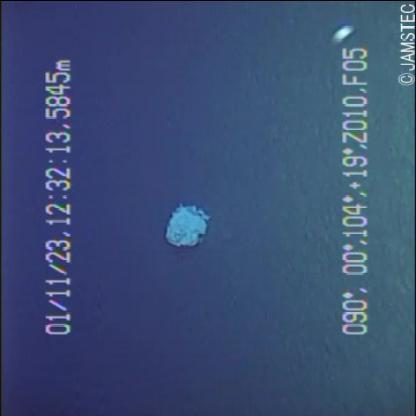Rác: (149, 174, 232, 266)
